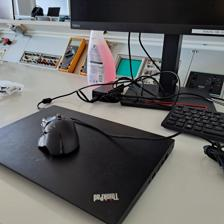mouse: (35, 112, 80, 159)
